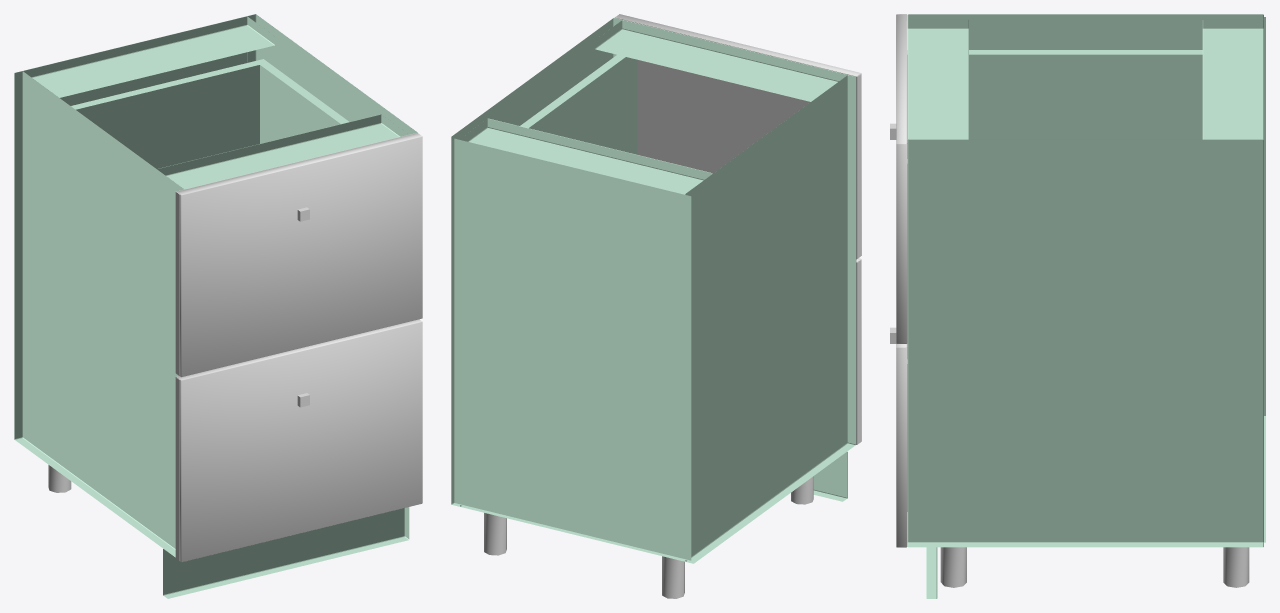
The model's file is M_2YNSD_5.glb.
3 views of the same model, side by side, from view 1: azimuth 30°, elevation 25°; view 2: azimuth 150°, elevation 25°; view 3: azimuth 270°, elevation 25° (orthographic). The views are drawn at different scales.
Visible parts, largest first — view 1: M_2YNSD_5, M_2YNSD_1_F.006, M_2YNSD_1_F.007, M_2YNSD_5_F_5, M_2YNSD_1_F_C.006, M_2YNSD_1_F_C.007; view 2: M_2YNSD_5, M_2YNSD_1_F_A.006, M_2YNSD_5_F_5, M_2YNSD_1_F_B.006, Legs.001, M_2YNSD_1_F.006, M_2YNSD_1_F_C.006, M_2YNSD_1_F_C.007; view 3: M_2YNSD_5, M_2YNSD_5_F_5, M_2YNSD_1_F.006, M_2YNSD_1_F.007, Legs.001.
Part boxes in pixels (x1,y1,x2,y2): M_2YNSD_5: (14, 14, 417, 598); M_2YNSD_1_F.006: (177, 133, 422, 377); M_2YNSD_1_F.007: (177, 319, 422, 562); M_2YNSD_5_F_5: (71, 59, 348, 168); M_2YNSD_1_F_C.006: (175, 192, 179, 375); M_2YNSD_1_F_C.007: (175, 377, 179, 560); M_2YNSD_5: (451, 18, 856, 563); M_2YNSD_1_F_A.006: (615, 17, 859, 173); M_2YNSD_5_F_5: (520, 55, 637, 154); M_2YNSD_1_F_B.006: (736, 47, 860, 258); Legs.001: (484, 476, 813, 598); M_2YNSD_1_F.006: (615, 14, 861, 259); M_2YNSD_1_F_C.006: (857, 74, 861, 258); M_2YNSD_1_F_C.007: (857, 260, 861, 444); M_2YNSD_5: (907, 14, 1265, 598); M_2YNSD_5_F_5: (907, 50, 1202, 511); M_2YNSD_1_F.006: (896, 14, 907, 343); M_2YNSD_1_F.007: (896, 344, 907, 547); Legs.001: (940, 547, 1249, 587).
Bounding box in the file's own units: 5.27 × 8.6 × 6.43.
